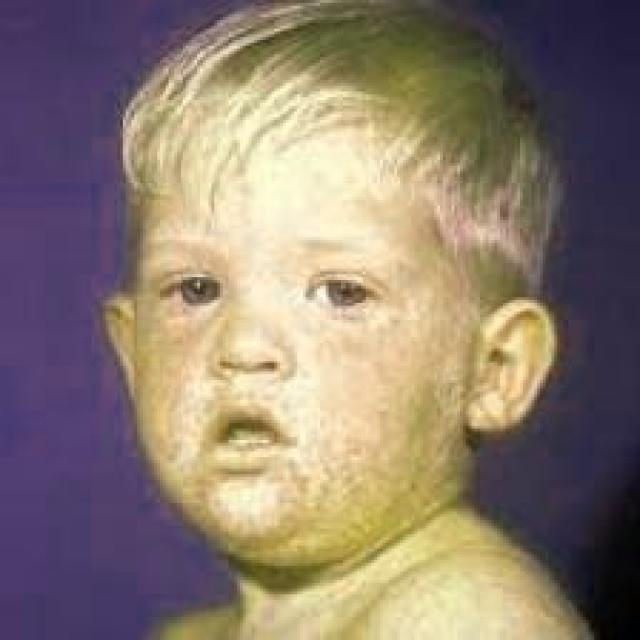others: (113, 170, 527, 640)
